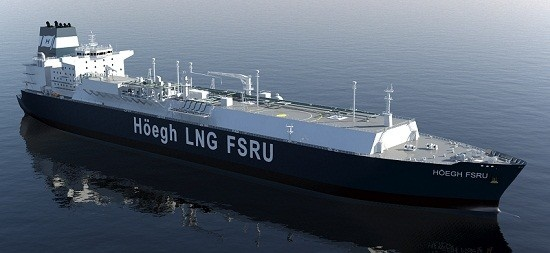Cargoship: (14, 17, 531, 218)
